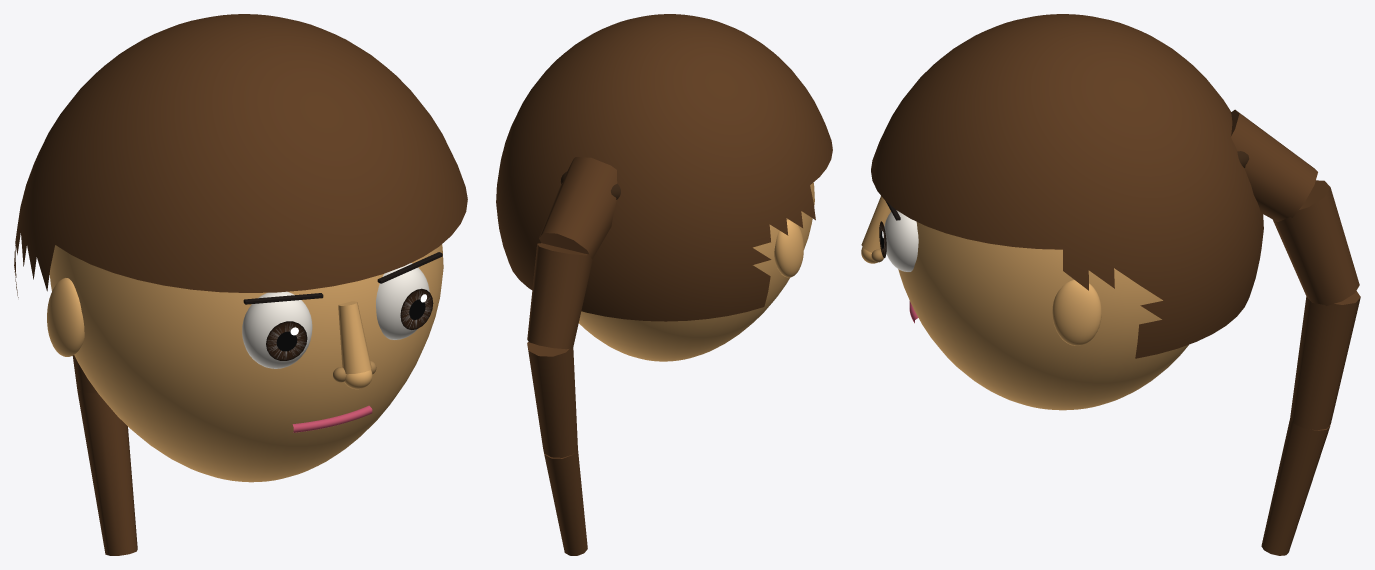
File: femme-06-queue-de-cheval.glb
The picture shows the model from 3 angles, left to right: view 1: azimuth 30°, elevation 25°; view 2: azimuth 150°, elevation 25°; view 3: azimuth 270°, elevation 25°; orthographic projection. The views are drawn at different scales.
Size of the model in its own units: 0.3304 by 0.4884 by 0.4238.
Materials: 12 (1 with a texture image).
